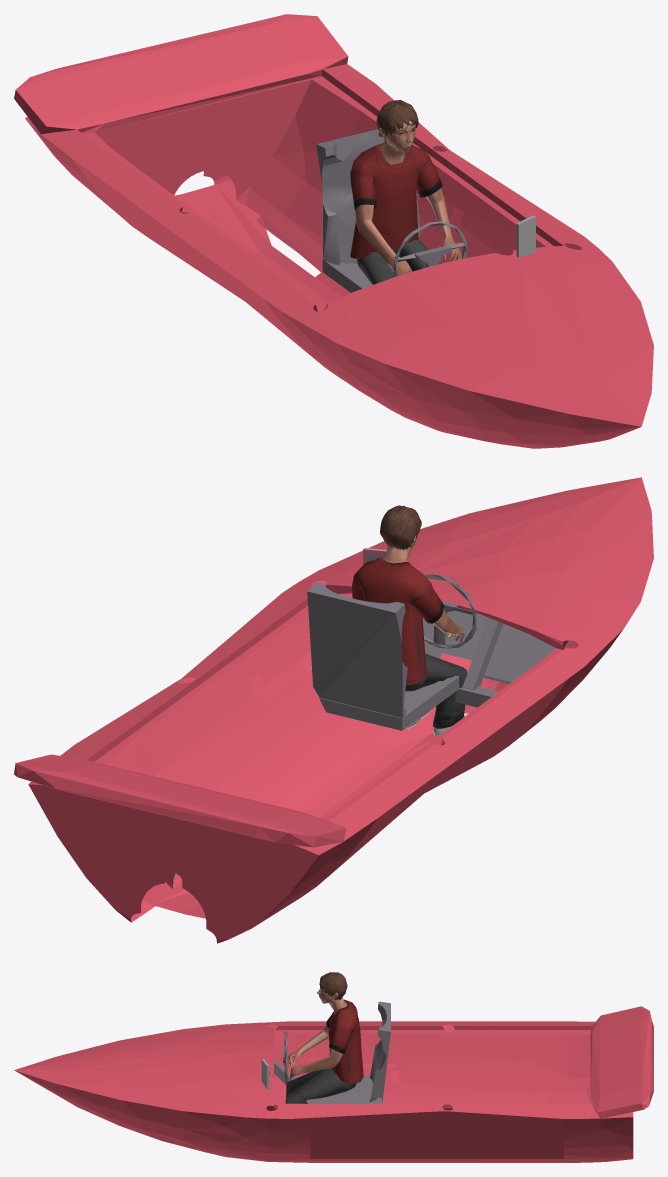
File: boy_boat.fbx
3 views of the same model, one above another, from view 1: azimuth 30°, elevation 25°; view 2: azimuth 150°, elevation 25°; view 3: azimuth 270°, elevation 25° (orthographic). The views are drawn at different scales.
Parts seen in each view (by area): view 1: ship, boy3; view 2: ship, boy3; view 3: ship, boy3.
Part boxes in pixels (x1,y1,x2,y2): ship: [14, 14, 653, 448]; boy3: [350, 100, 461, 284]; ship: [14, 477, 653, 943]; boy3: [352, 505, 468, 735]; ship: [14, 1001, 653, 1162]; boy3: [285, 972, 363, 1103].
Bounding box in the file's own units: 226 × 196 × 625.
4 materials, 1 textured.
